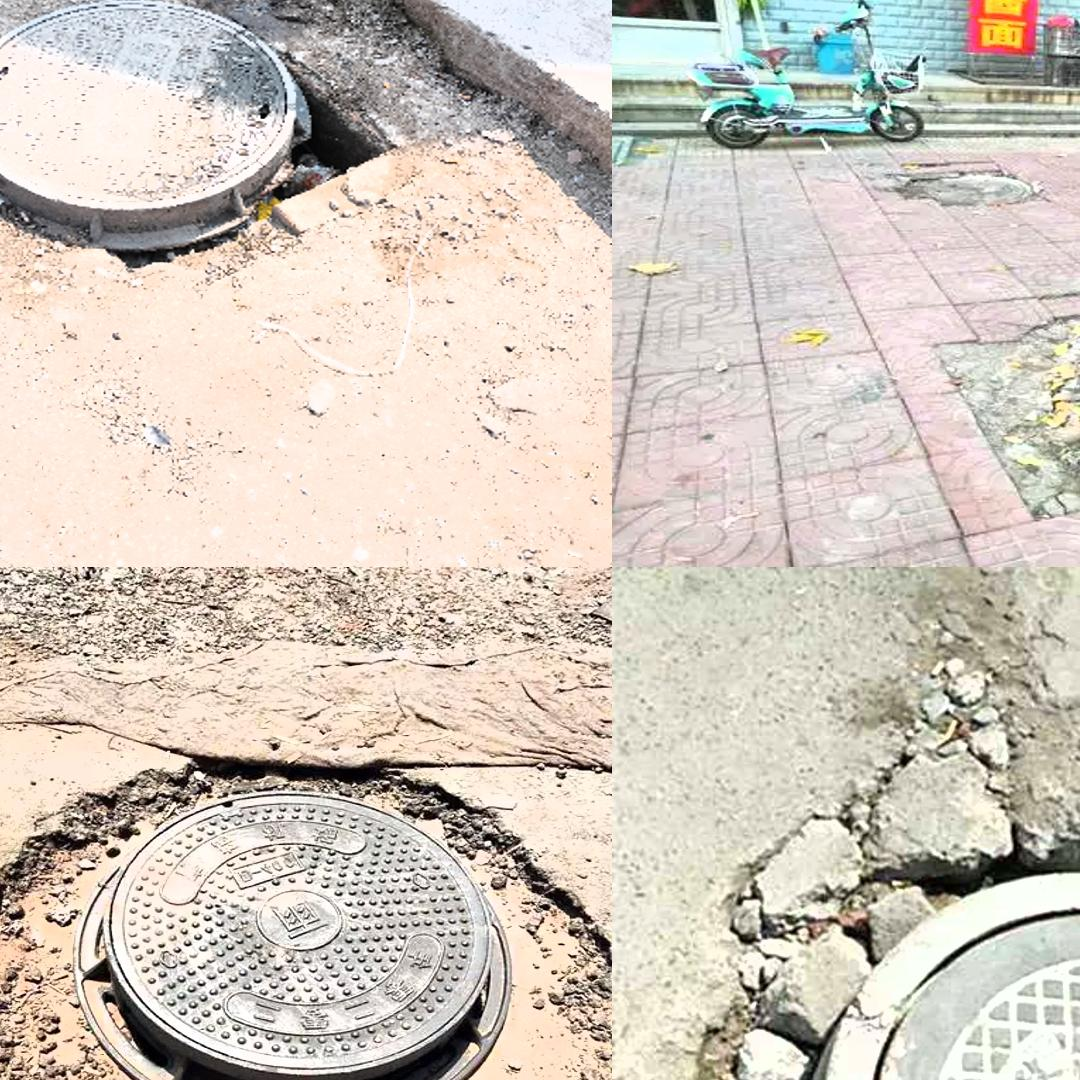circle: (0, 762, 599, 1080), (702, 642, 1080, 1080), (0, 0, 362, 260), (956, 296, 1080, 539)
